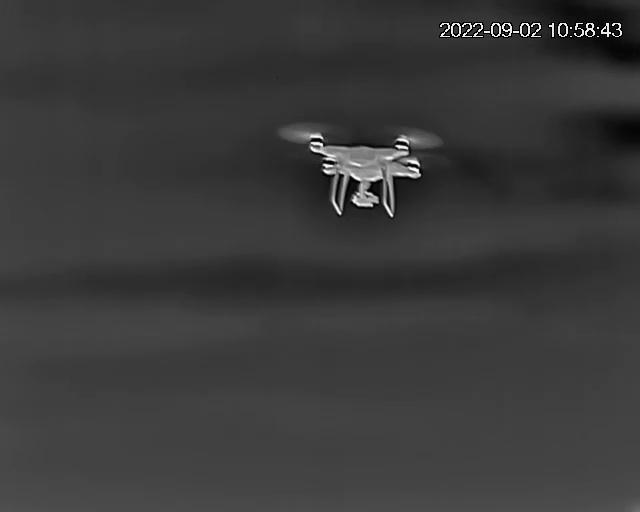DJI-Phantom: (284, 126, 444, 219)
